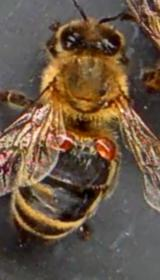varroa_mite: (92, 130, 120, 170), (44, 130, 78, 151)
